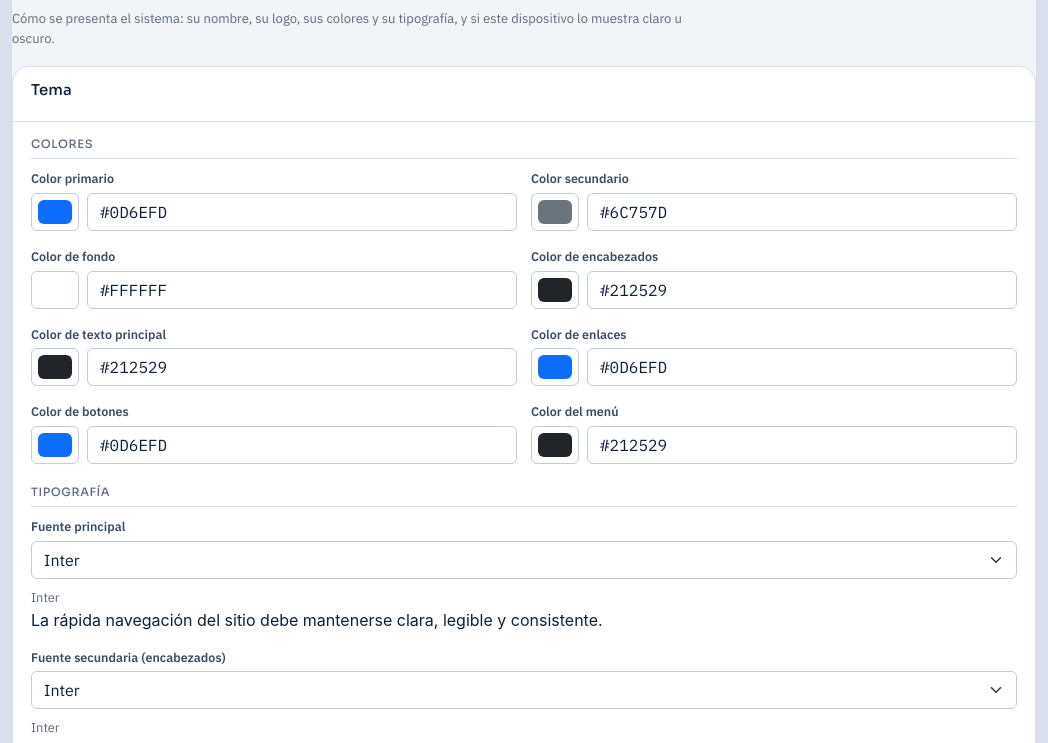
Test: La pestaña de colores › un hexadecimal mal escrito no se puede guardar
Expected: the heading "Colores" is shown, [31,138,1017,159]
In the field below "Color primario": x=302, y=212 [87,193,517,231], type "azul"
(page scrolled)
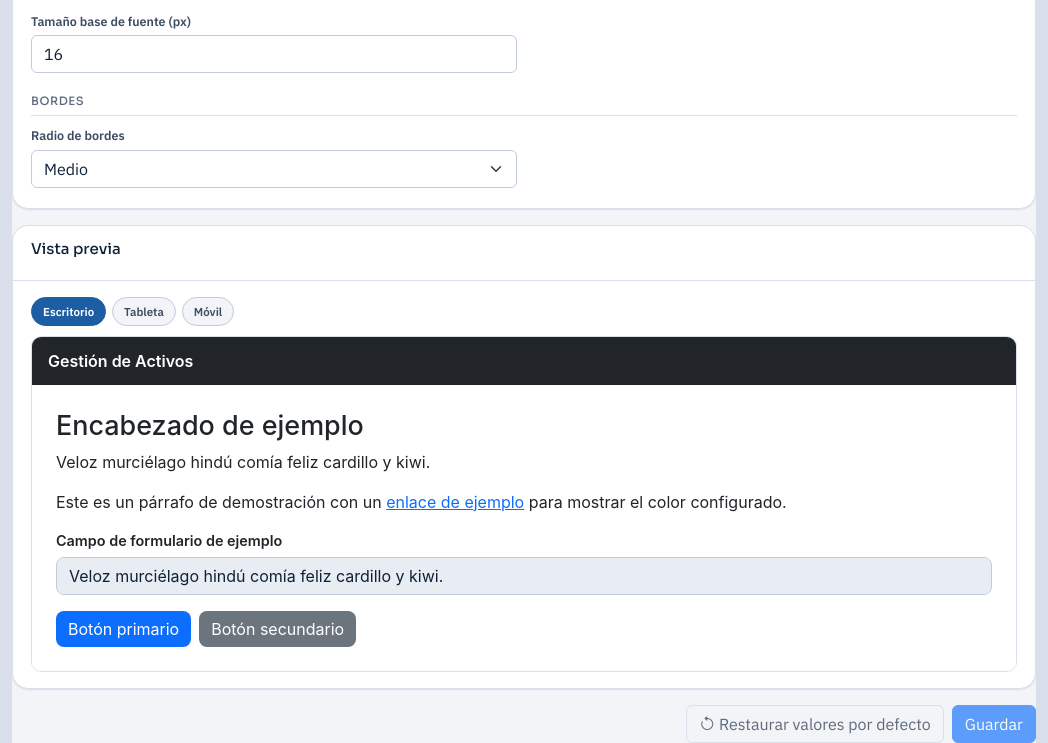
Result: the button "Guardar" is disabled at [952,705,1036,742]
